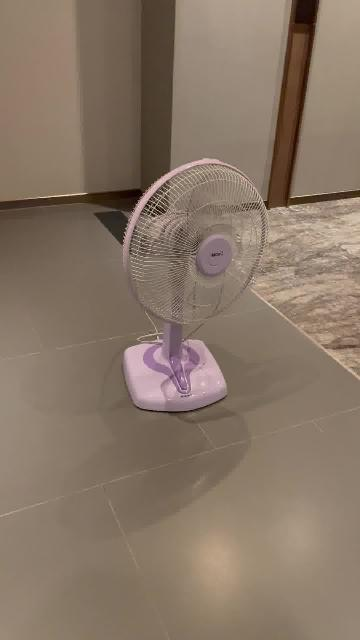Fan: (122, 158, 268, 414)
